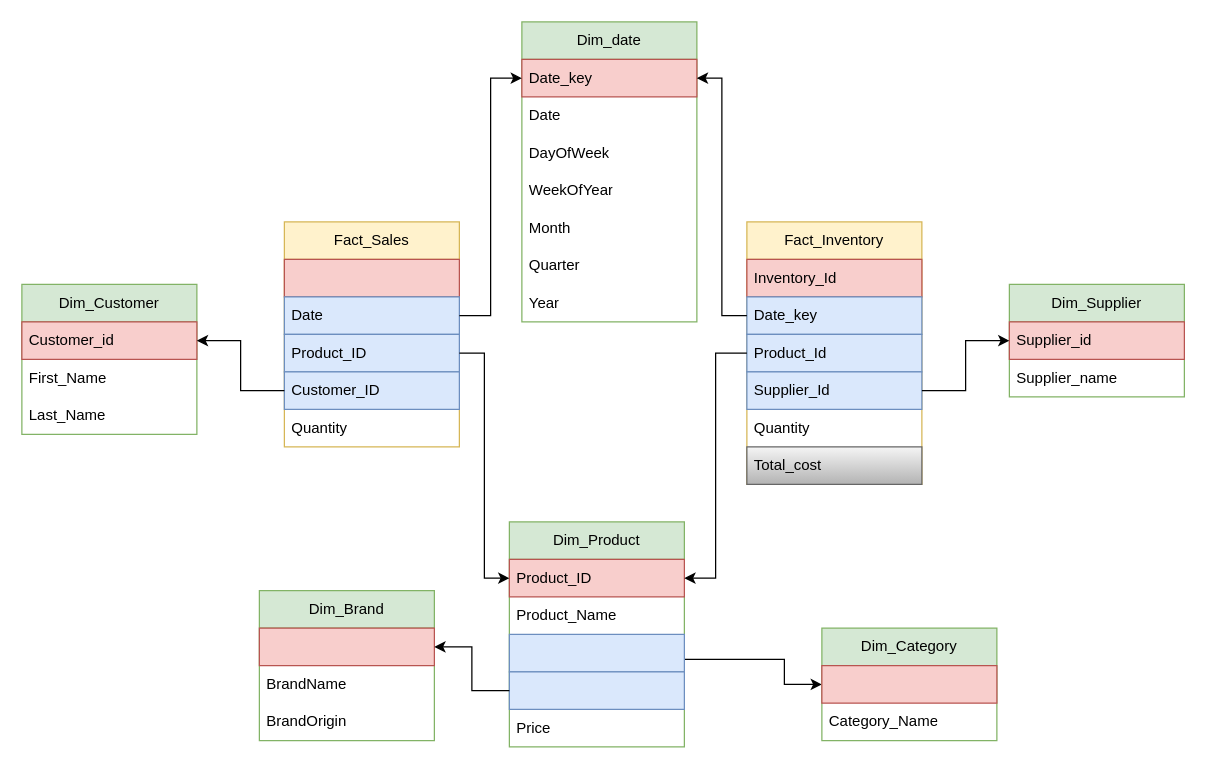
This 1206x769 diagram has some shape labels left out. The shapes that lost their labels are listed below. From the top down, each one's centre as x and y in pixels, then its label:
At point 371,277: "Sale_ID".
At point 346,646: "Brand_id".
At point 596,652: "Category".
At point 596,690: "Brand".
At point 909,683: "Category_id".
